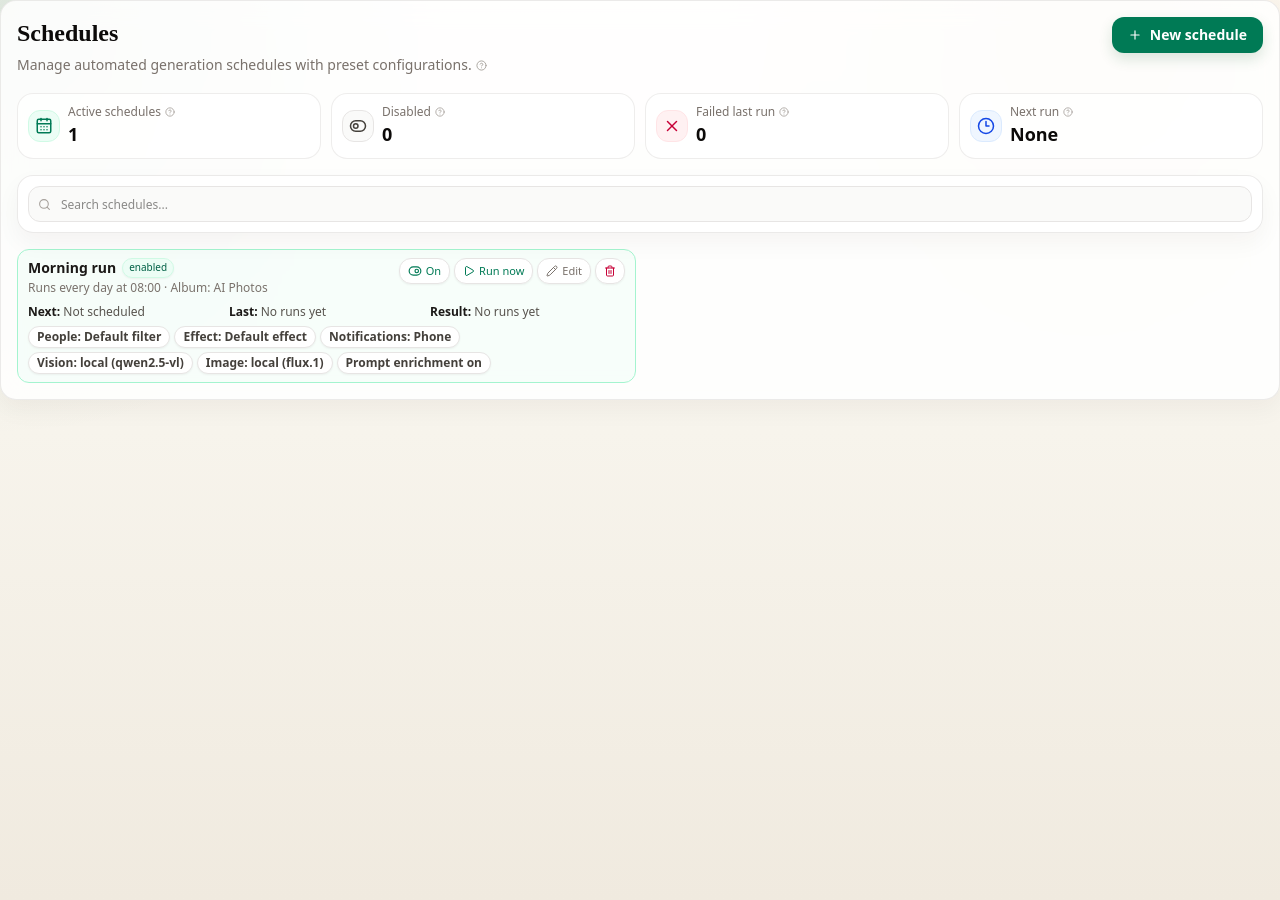
Test case: SchedulesPage › uses a dedicated editing surface instead of keeping the schedule browser visible
Click the button "Edit" at {"x": 564, "y": 271}, box [537,258,591,284]
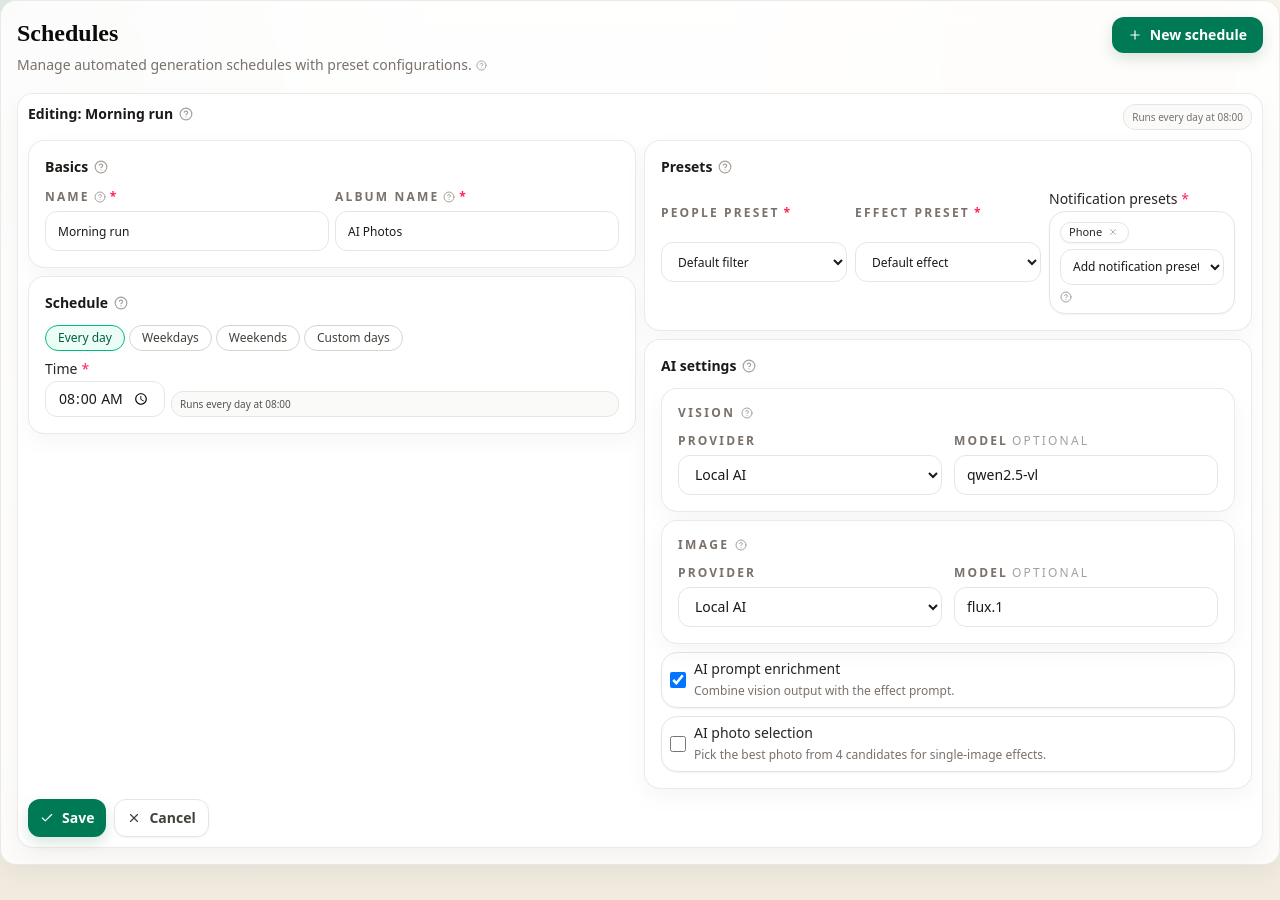
expect the field with placeholder "Search schedules..." is not shown: met
expect the text "Editing: Morning run" is shown: met, box [28,104,173,124]
expect the button "Run now" is gone: met
